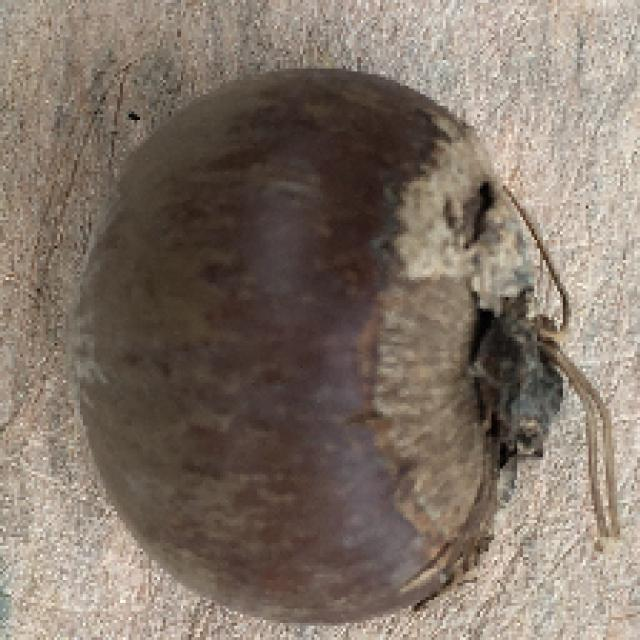damagedHazelnut: (72, 62, 568, 629)
